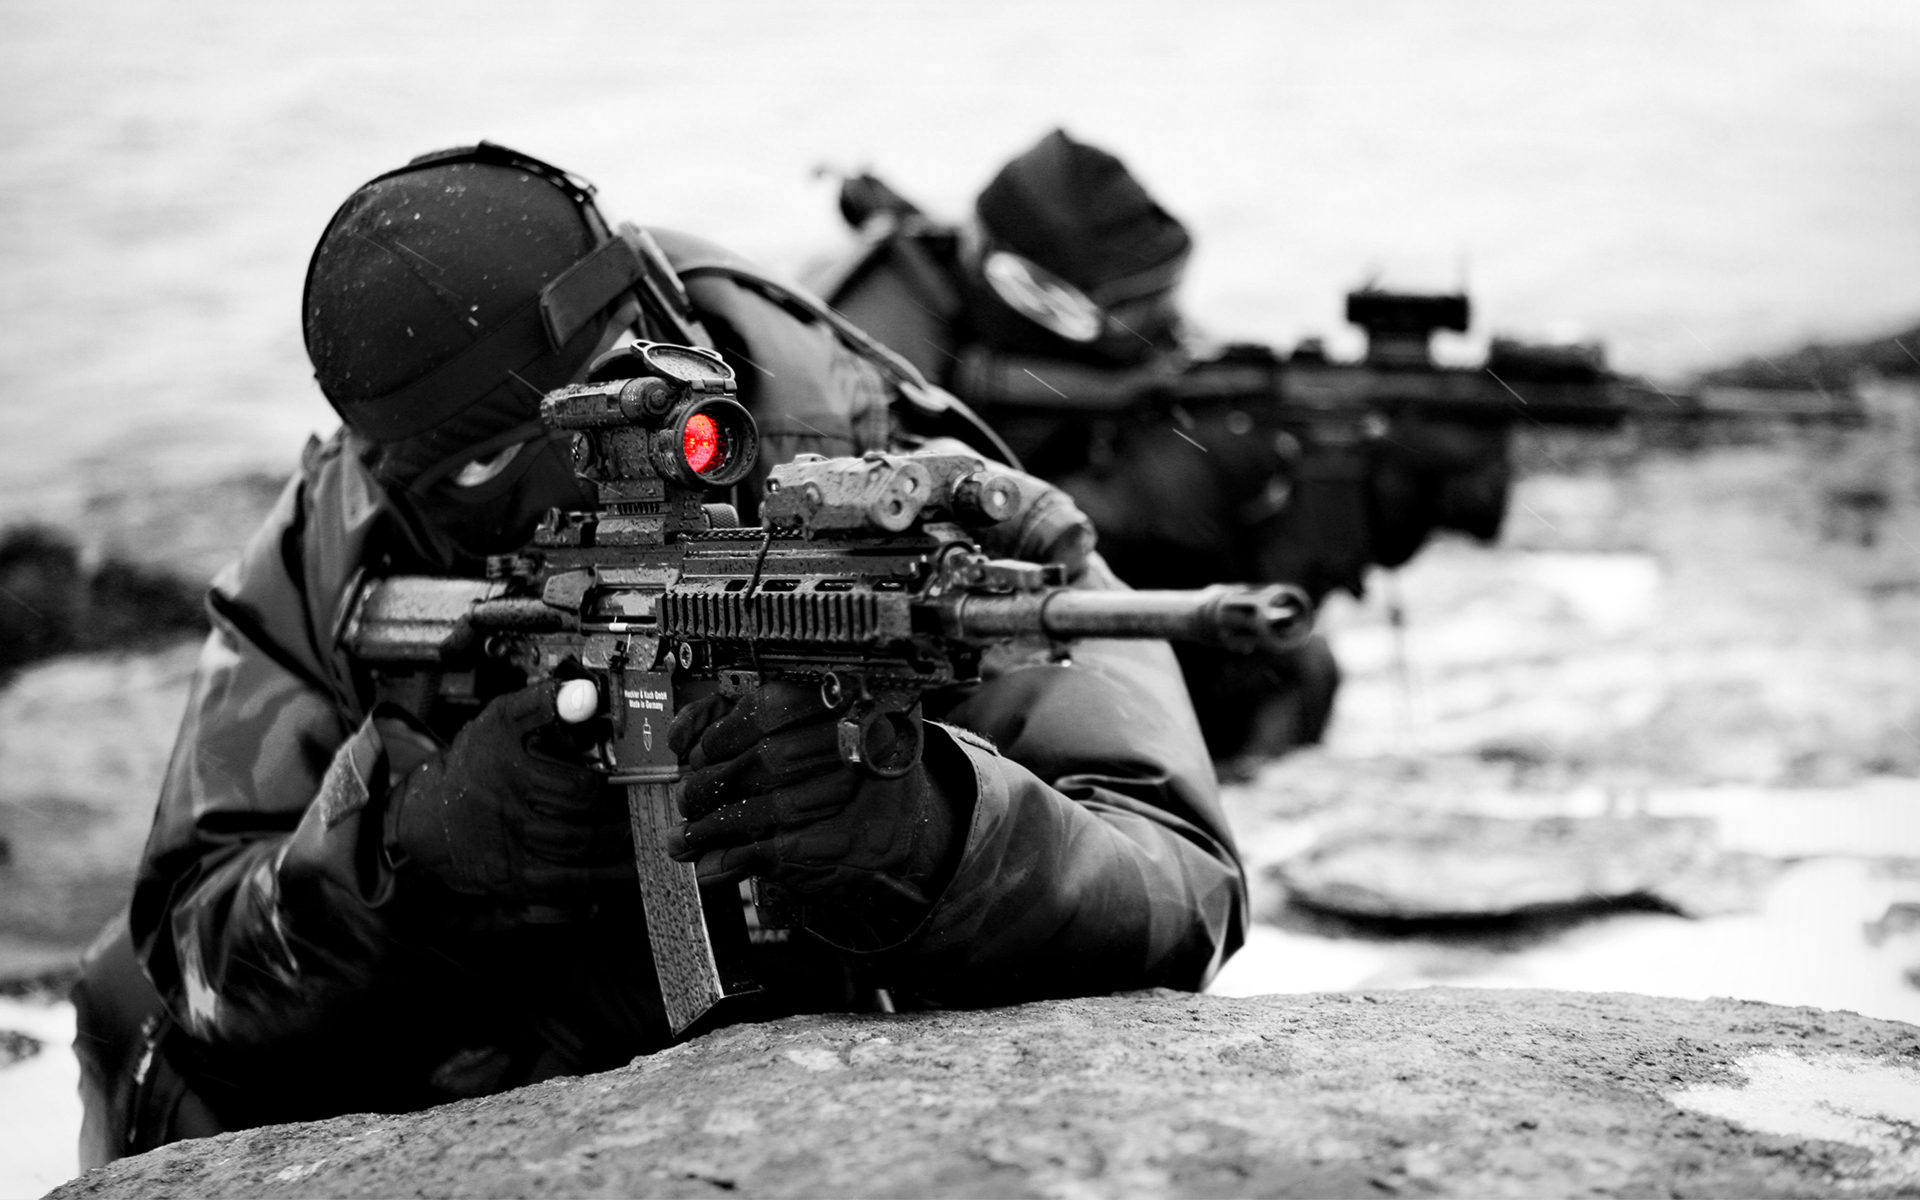Gun: (505, 373, 1328, 713)
